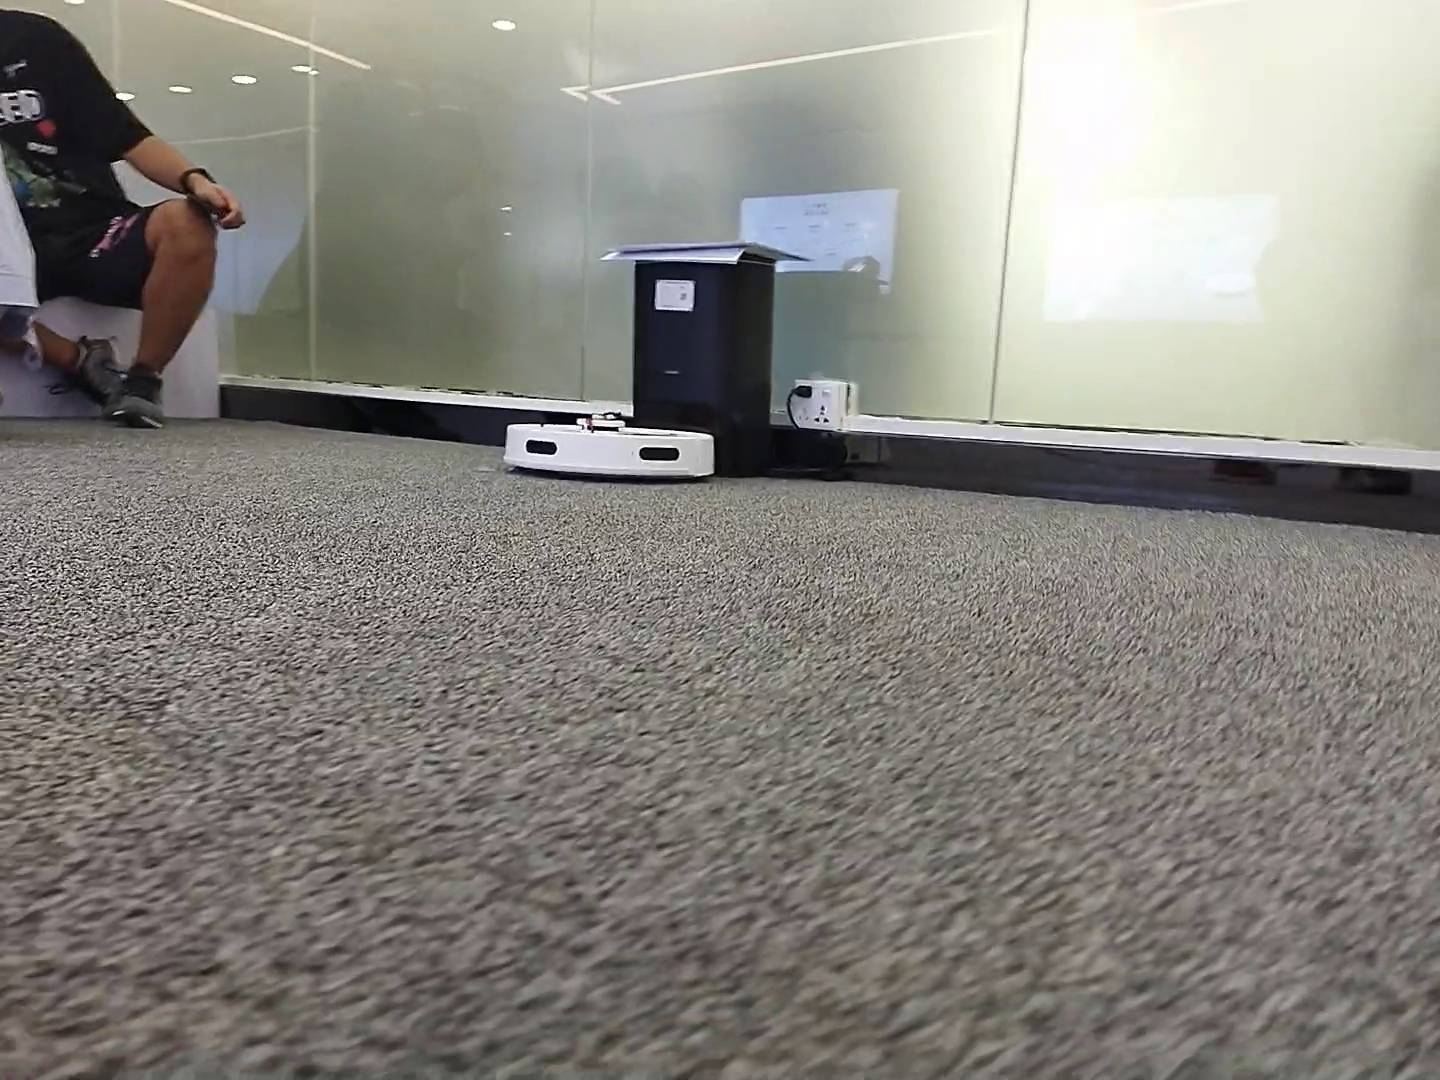dust collecting barrel: (635, 255, 779, 476)
